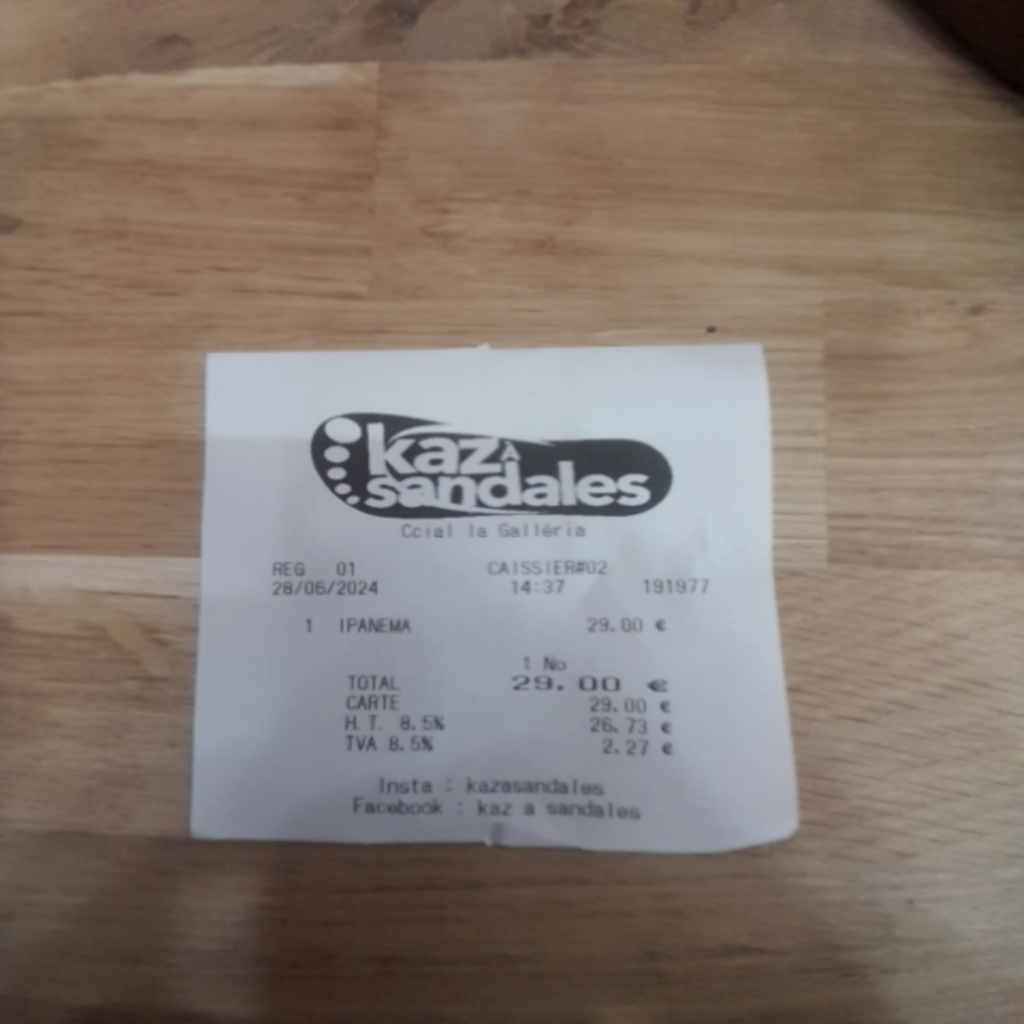recipt: (191, 338, 800, 860)
